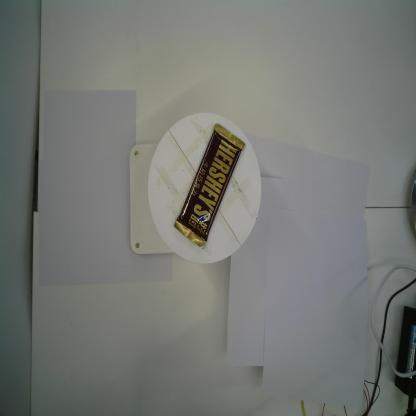Chocolate: (173, 122, 246, 250)
